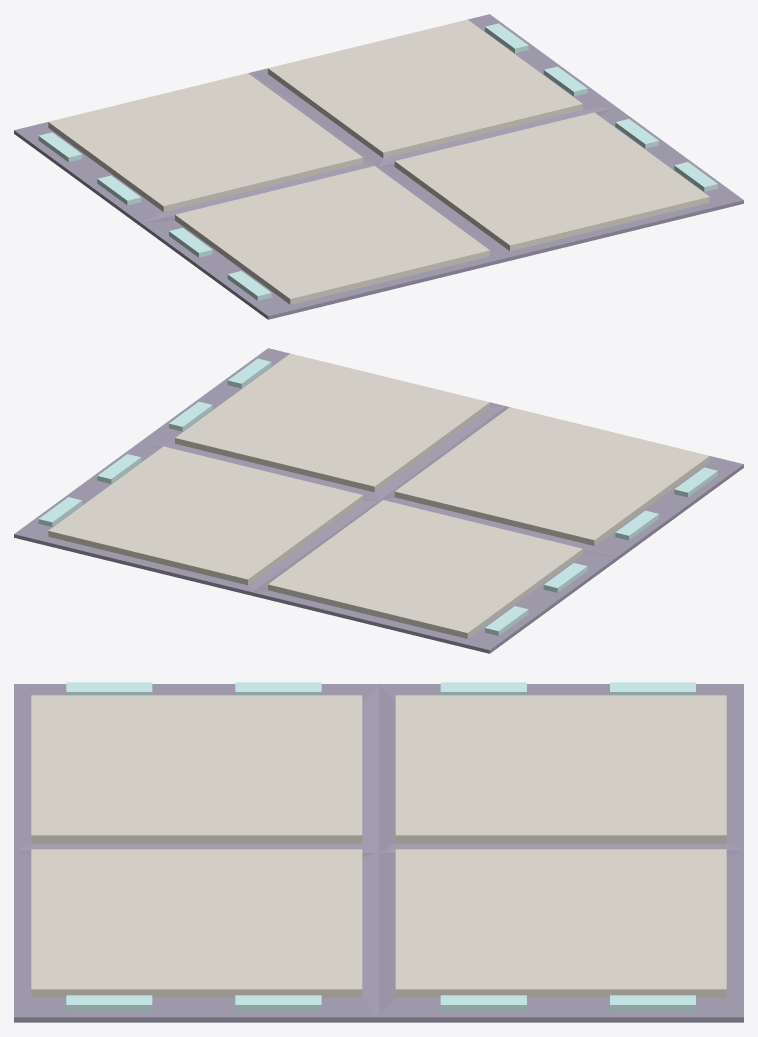
File: floorwlights.fbx
3 views of the same model, one above another, from view 1: azimuth 30°, elevation 25°; view 2: azimuth 150°, elevation 25°; view 3: azimuth 270°, elevation 25° (orthographic). The views are drawn at different scales.
Parts seen in each view (by area): view 1: FloorWithLights; view 2: FloorWithLights; view 3: FloorWithLights.
Boxes of the visible parts, x1,y1,x2,y2 form: FloorWithLights: (14, 14, 743, 319); FloorWithLights: (14, 348, 743, 653); FloorWithLights: (14, 682, 743, 1022).
Bounding box in the file's own units: 455 × 8.66 × 421.
